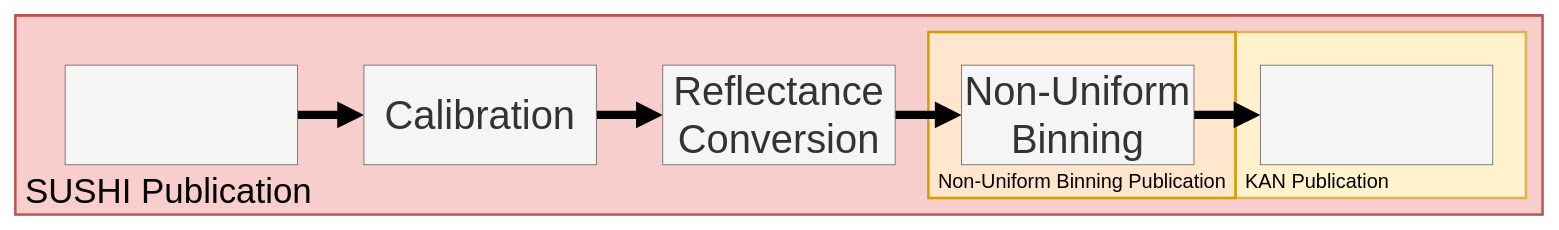
The diagram is 1559 pixels wide and 230 high, and some of its shapes have lost their labels. Each missing label, with the centre of its shape:
"Collection" belongs at pixel 181 114.
"KAN Inference" belongs at pixel 1376 114.
